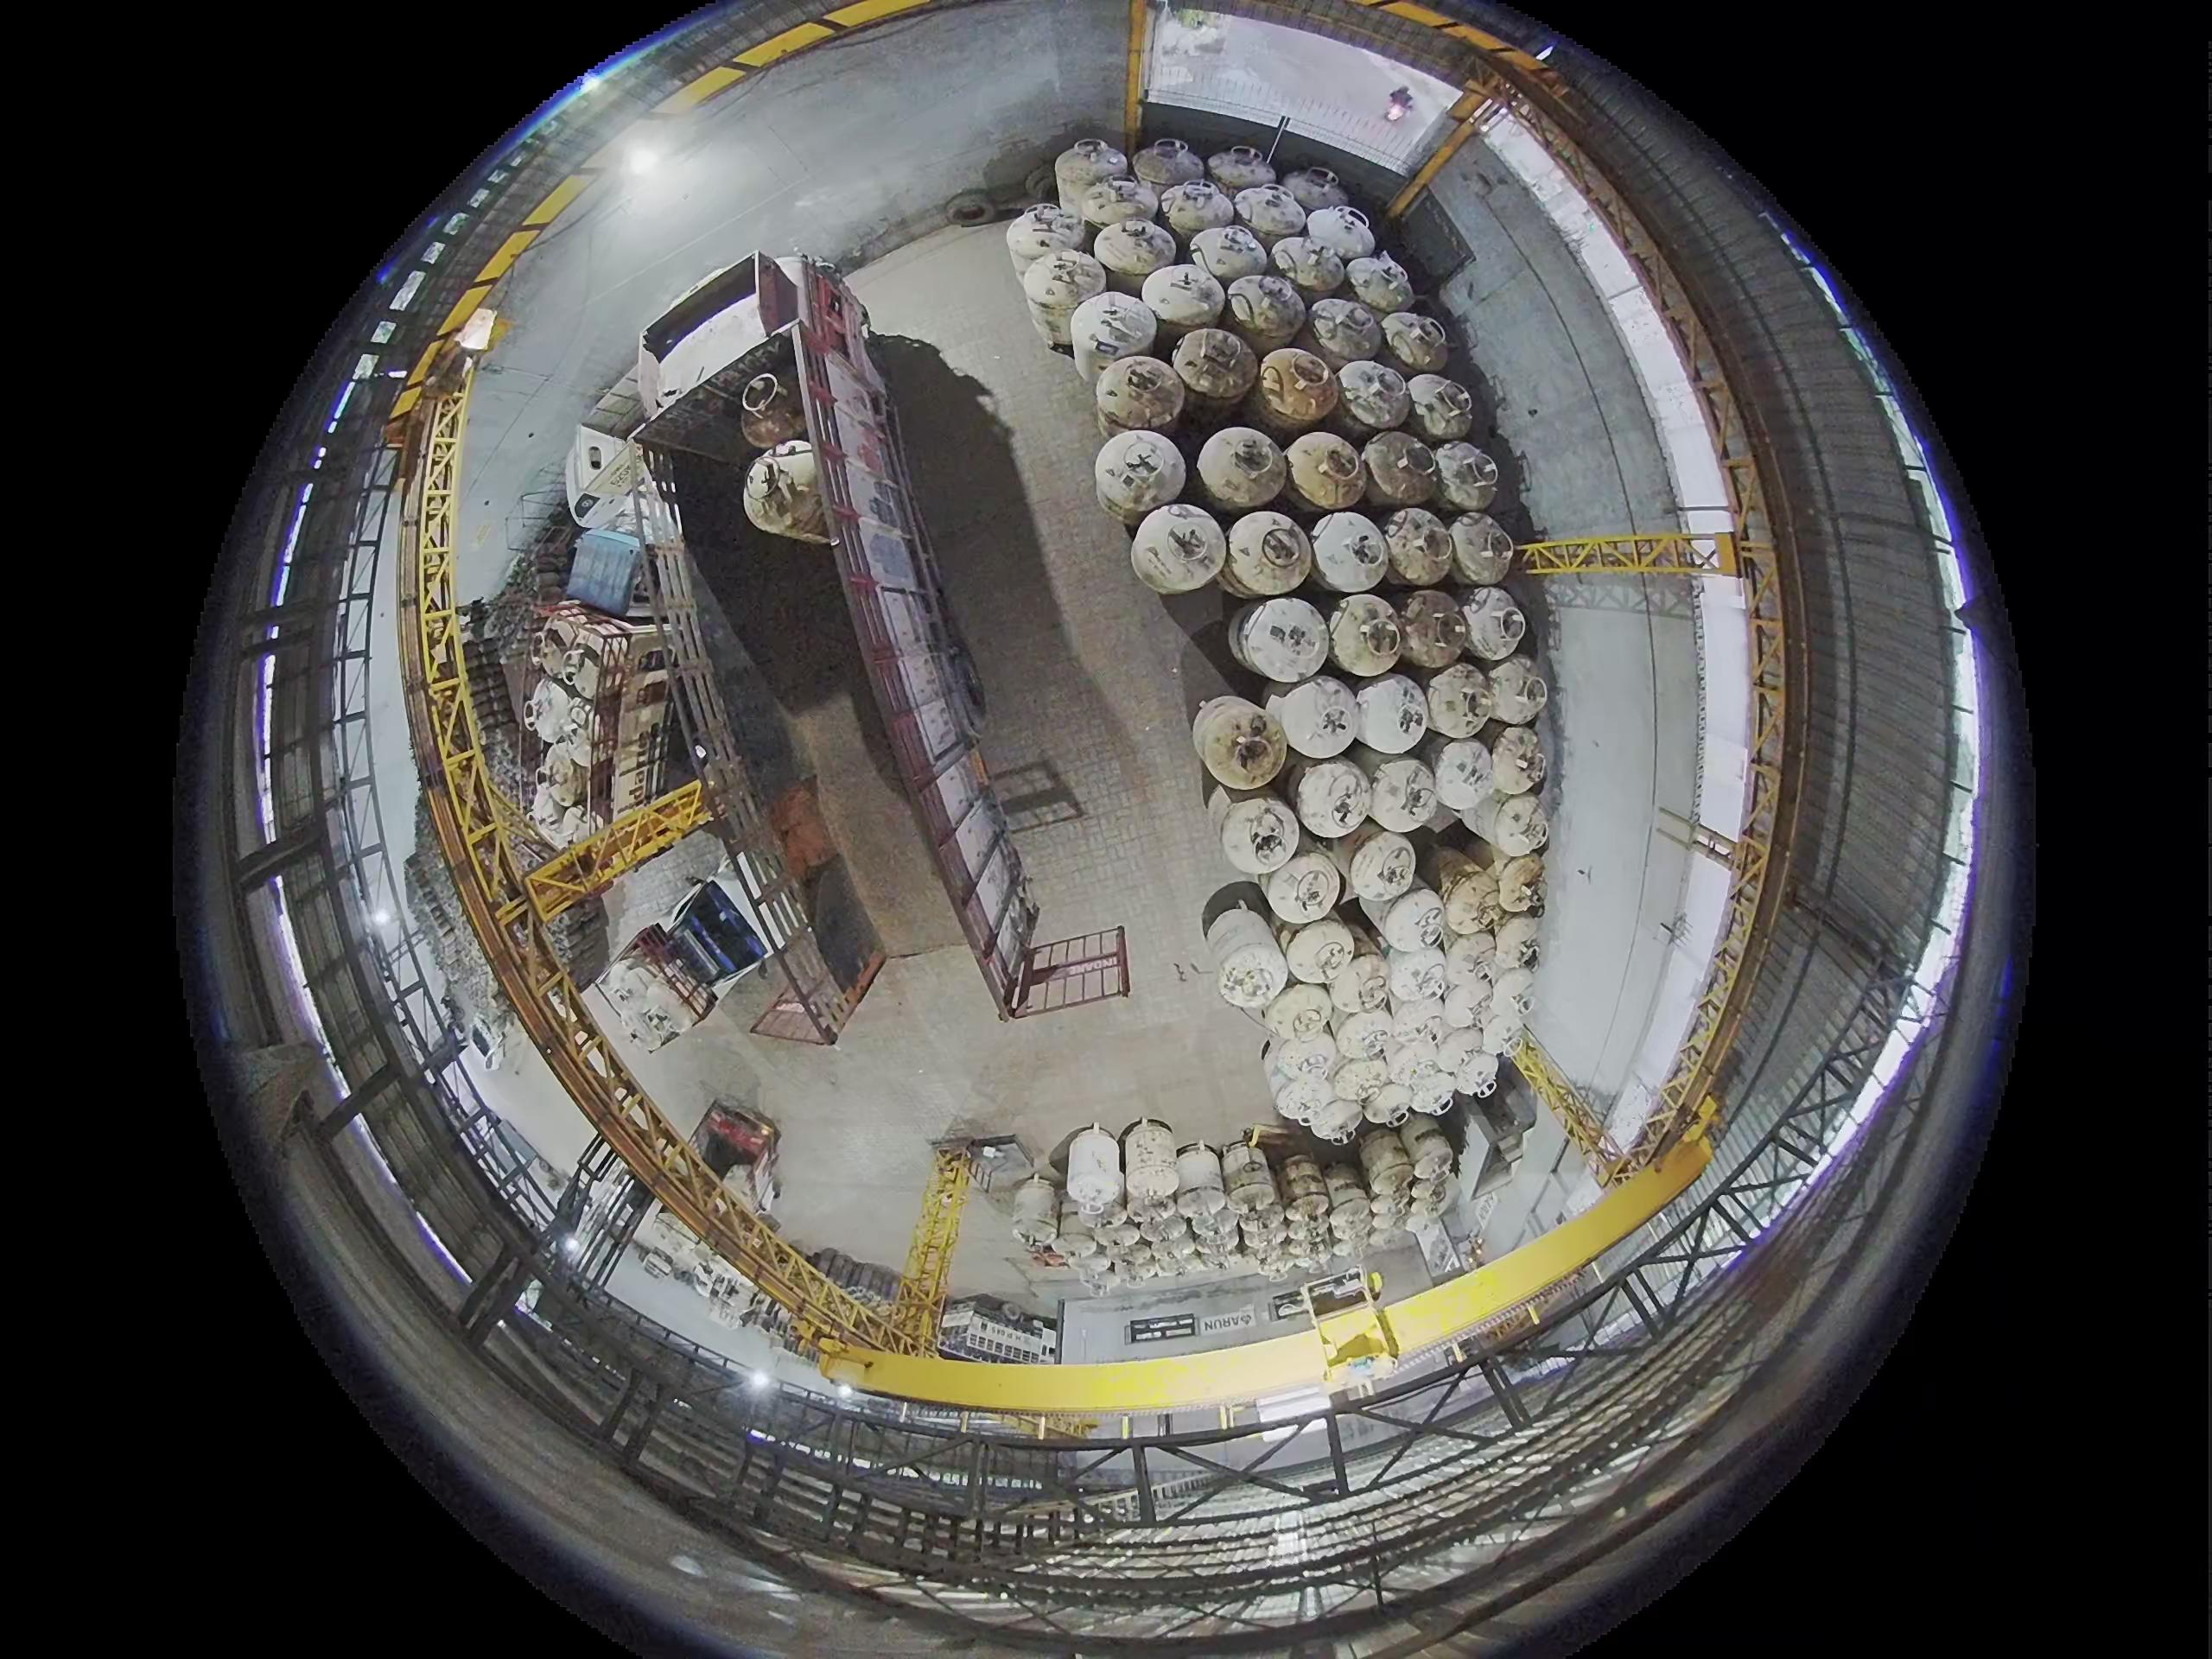cylinder: (1090, 1134, 1339, 1288), (1289, 981, 1489, 1115), (1183, 688, 1353, 824), (1089, 1206, 1350, 1279), (1191, 911, 1285, 1032), (1015, 1215, 1163, 1290), (1129, 514, 1230, 617), (1235, 509, 1317, 617), (1094, 422, 1191, 512), (1230, 598, 1331, 685), (749, 450, 845, 540), (1435, 434, 1521, 532), (1357, 673, 1458, 755), (1197, 425, 1284, 516), (1299, 422, 1374, 526), (1397, 589, 1486, 673), (1015, 260, 1134, 322), (1014, 181, 1104, 263), (1407, 371, 1508, 444), (1285, 430, 1372, 512), (1428, 662, 1508, 739), (1360, 430, 1439, 507), (1338, 361, 1413, 437), (1451, 512, 1526, 587), (1336, 589, 1407, 667), (1075, 284, 1155, 354), (1393, 516, 1461, 598), (1160, 254, 1226, 336), (1045, 124, 1129, 188), (1310, 298, 1385, 369), (737, 380, 813, 450), (1383, 885, 1449, 962), (1278, 234, 1364, 289), (1188, 234, 1273, 288), (1468, 587, 1533, 657), (1392, 310, 1465, 371), (1277, 333, 1324, 416), (1498, 655, 1552, 725), (1106, 221, 1172, 275), (1169, 188, 1231, 244), (1287, 159, 1364, 204), (1150, 118, 1195, 186), (1214, 145, 1277, 192), (1322, 920, 1371, 979)
truck: (613, 244, 1111, 1035), (531, 532, 685, 890), (596, 894, 765, 1053), (685, 1103, 775, 1215)
